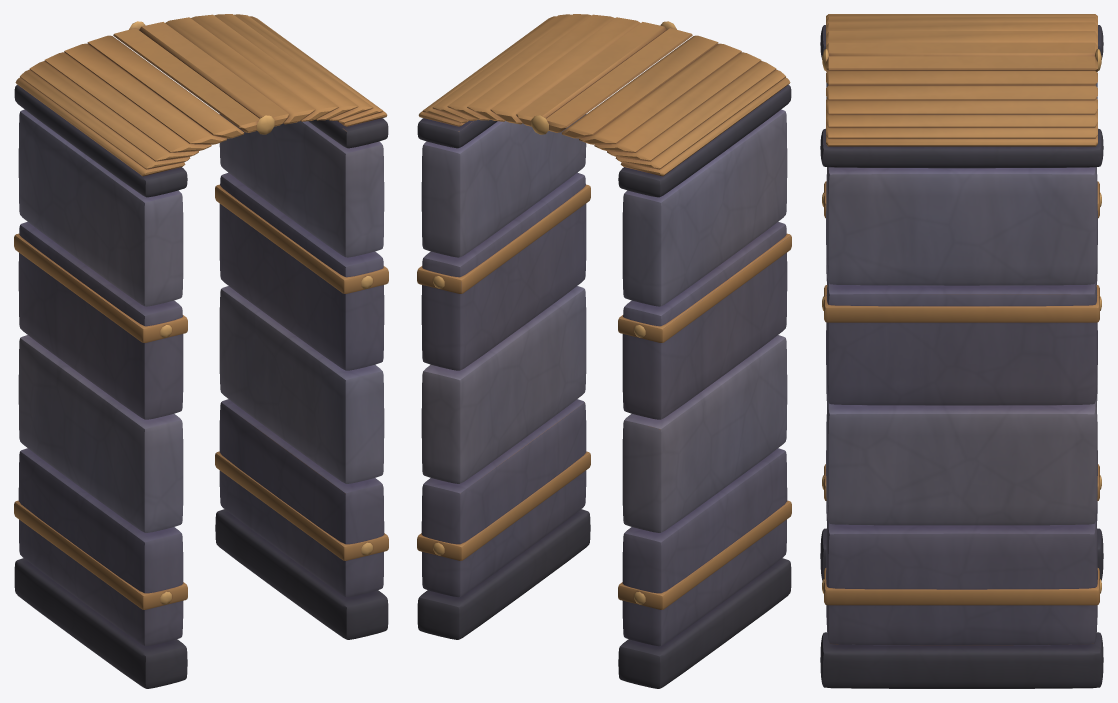
The model's file is EF_G04_PortcullisGuide.fbx.
3 renders of one model, left to right at view 1: azimuth 30°, elevation 25°; view 2: azimuth 150°, elevation 25°; view 3: azimuth 270°, elevation 25°, orthographic. The views are drawn at different scales.
Parts seen in each view (by area): view 1: Guide_L, Guide_R, ArchCap; view 2: Guide_L, Guide_R, ArchCap; view 3: Guide_R, ArchCap, Guide_L.
Boxes of the visible parts, x1,y1,x2,y2 form: Guide_L: [14, 85, 187, 688]; Guide_R: [215, 114, 388, 639]; ArchCap: [15, 14, 387, 176]; Guide_L: [618, 85, 791, 688]; Guide_R: [417, 114, 590, 639]; ArchCap: [418, 14, 790, 176]; Guide_R: [820, 128, 1103, 688]; ArchCap: [822, 14, 1101, 146]; Guide_L: [820, 25, 1103, 580].
Bounding box in the file's own units: 1.6 × 3.38 × 1.5.
